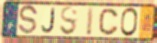C: (98, 8, 119, 37)
I: (85, 7, 95, 38)
J: (40, 7, 56, 34)
O: (120, 7, 139, 39)
S: (17, 4, 39, 37), (59, 6, 79, 37)
